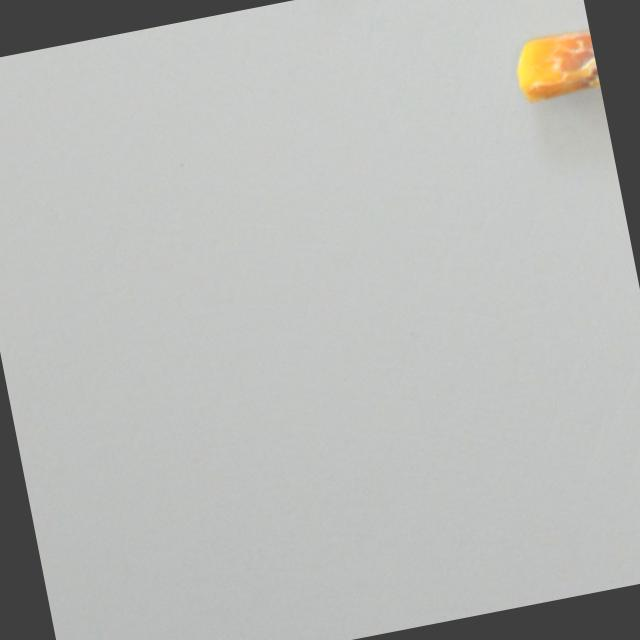dañado: (504, 23, 602, 112)
